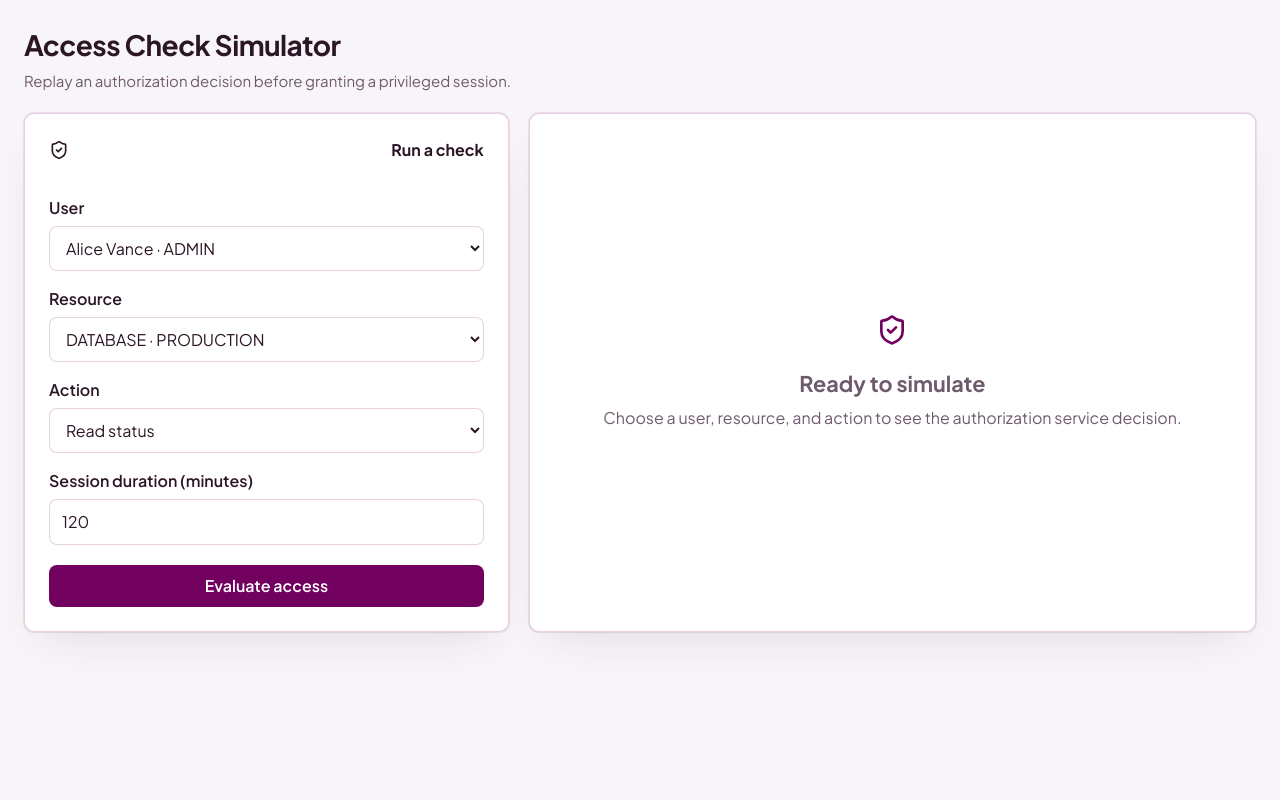
Access check simulator › shows the ALLOW decision and reason
The image size is (1280, 800).
Step 1. Click the button "Evaluate access" → (266, 586), box [49,564,484,606]
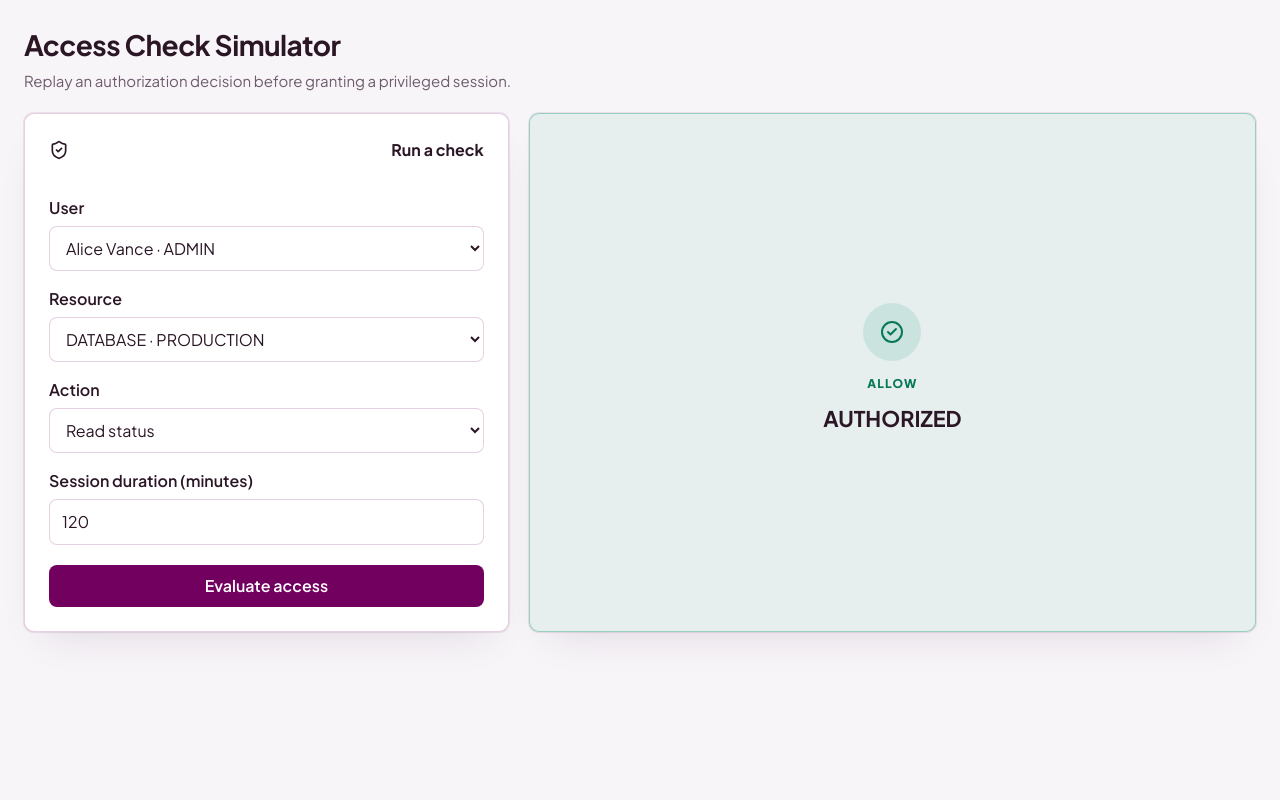
Expected: the element with test id "decision-result" shows "ALLOW", [867,376,918,391]
Expected: the element with test id "decision-result" shows "AUTHORIZED", [823,405,962,432]
